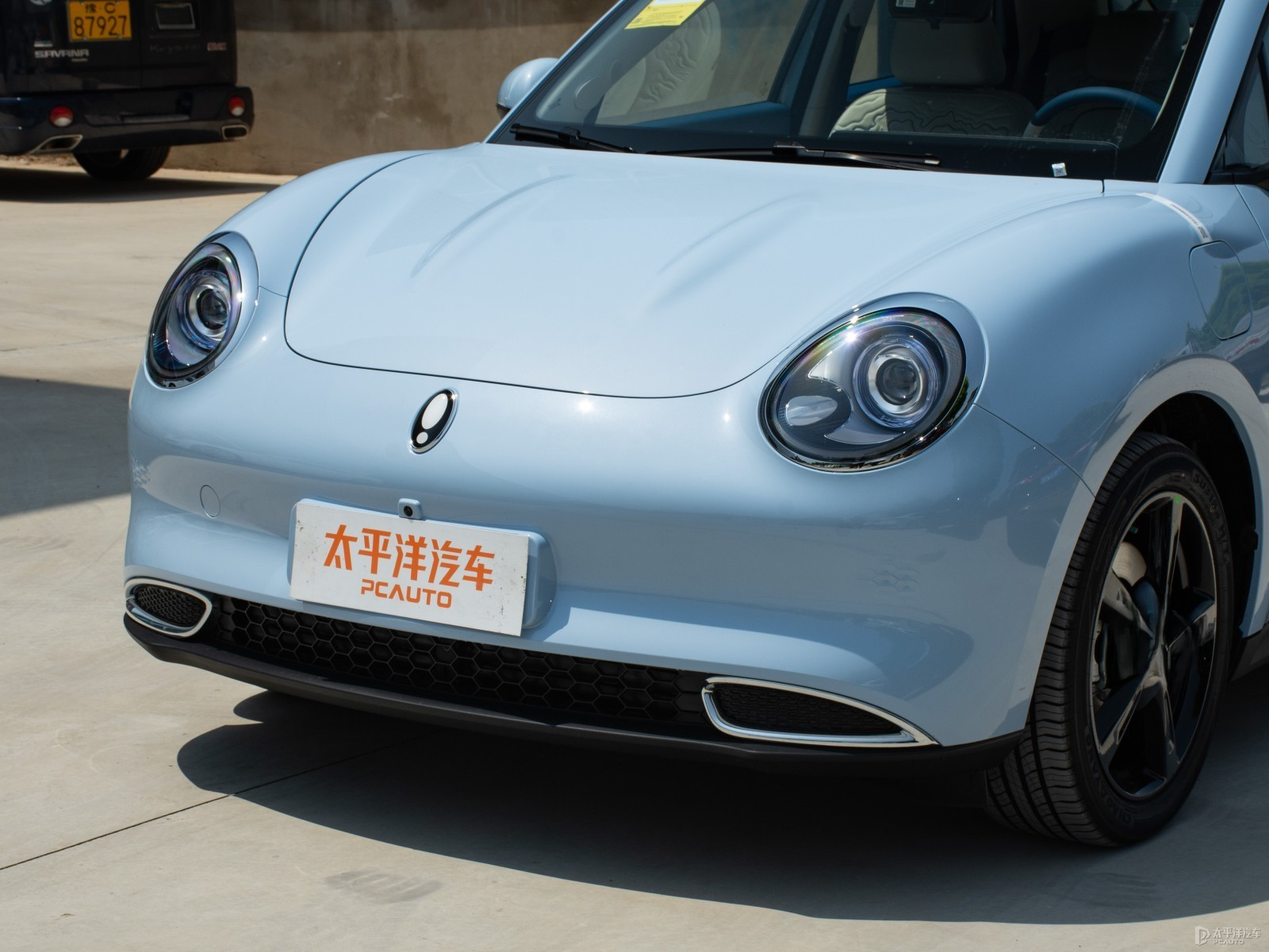ORA: (411, 390, 458, 452)
